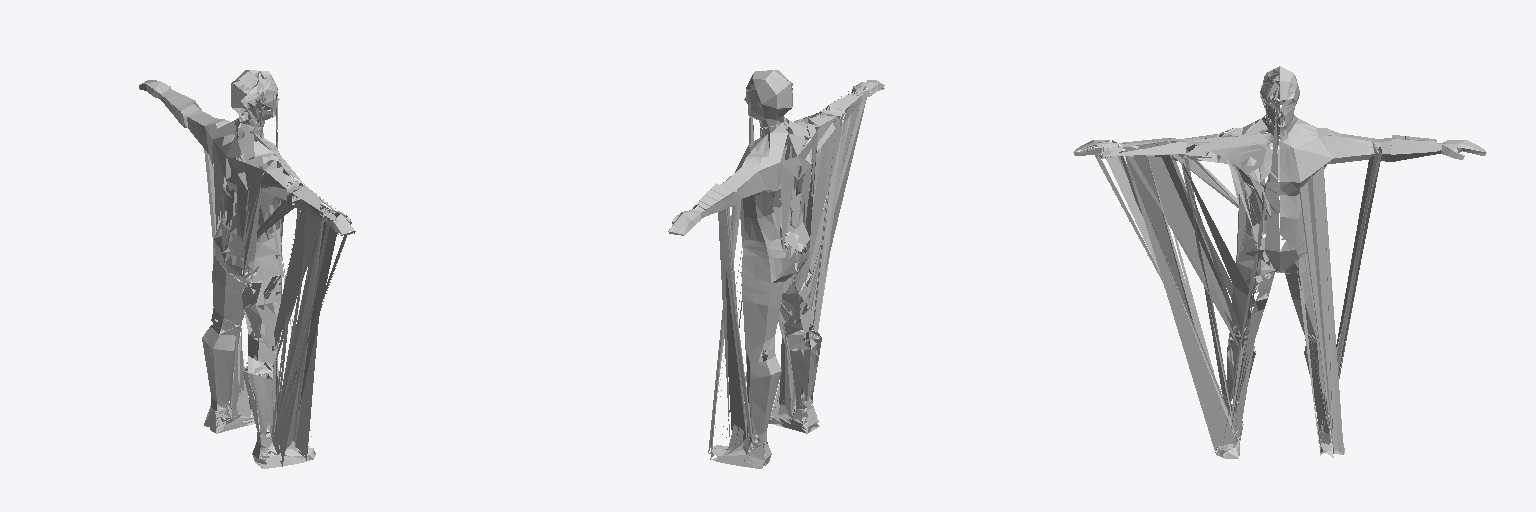
File: 180208_VROS_Cuff.obj
The picture shows the model from 3 angles: view 1: azimuth 30°, elevation 25°; view 2: azimuth 150°, elevation 25°; view 3: azimuth 270°, elevation 25°; orthographic projection.
Parts seen in each view (by area): view 1: man; view 2: man; view 3: man, c_cuff_base.
Boxes of the visible parts, x1=… form: man: x1=139, y1=70, x2=355, y2=468; man: x1=668, y1=70, x2=884, y2=468; man: x1=1073, y1=66, x2=1486, y2=458; c_cuff_base: x1=1391, y1=135, x2=1436, y2=154.
Bounding box in the file's own units: 0.3224 × 1.75 × 1.75.